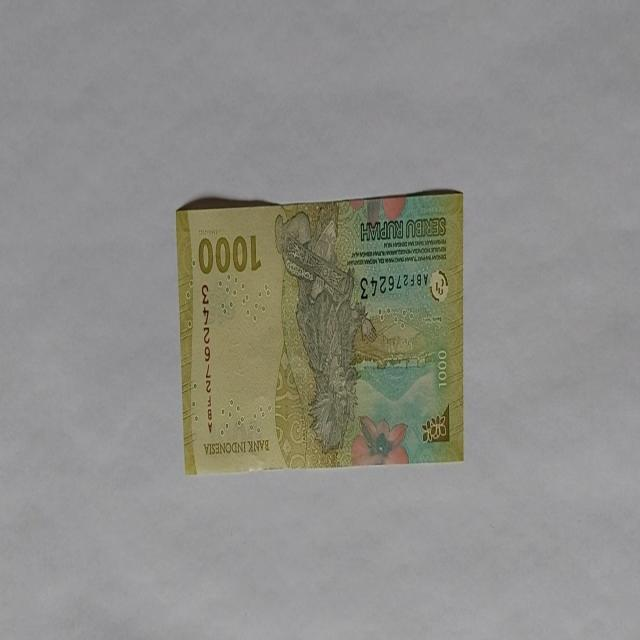seribu rupiah kertas: (176, 188, 464, 474)
